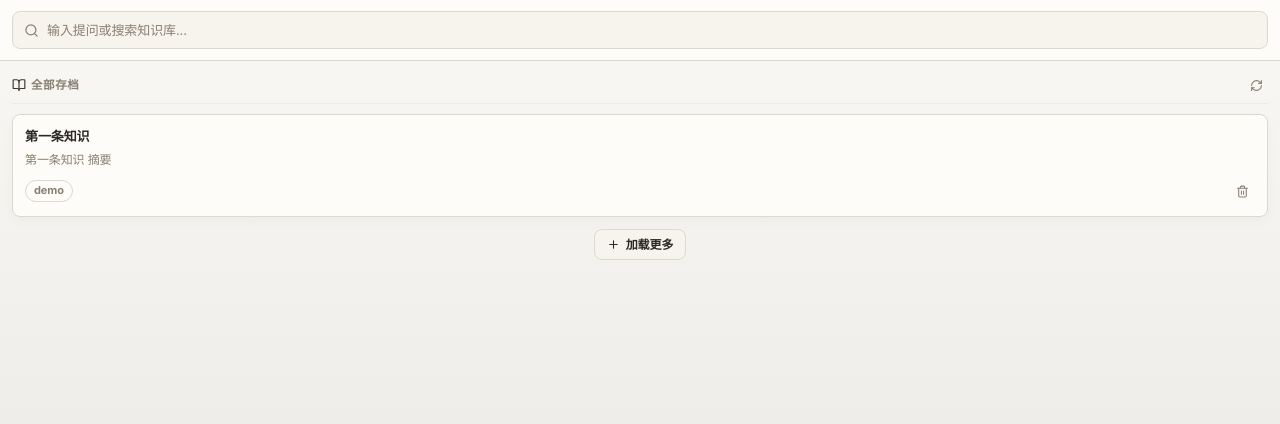
Scenario: KnowledgeView › appends additional knowledge pages without replacing the existing list
Expected: the heading "第一条知识" is shown, left=25, top=128, right=90, bottom=144
Click the button "加载更多" at (640, 245), box left=594, top=229, right=686, bottom=260
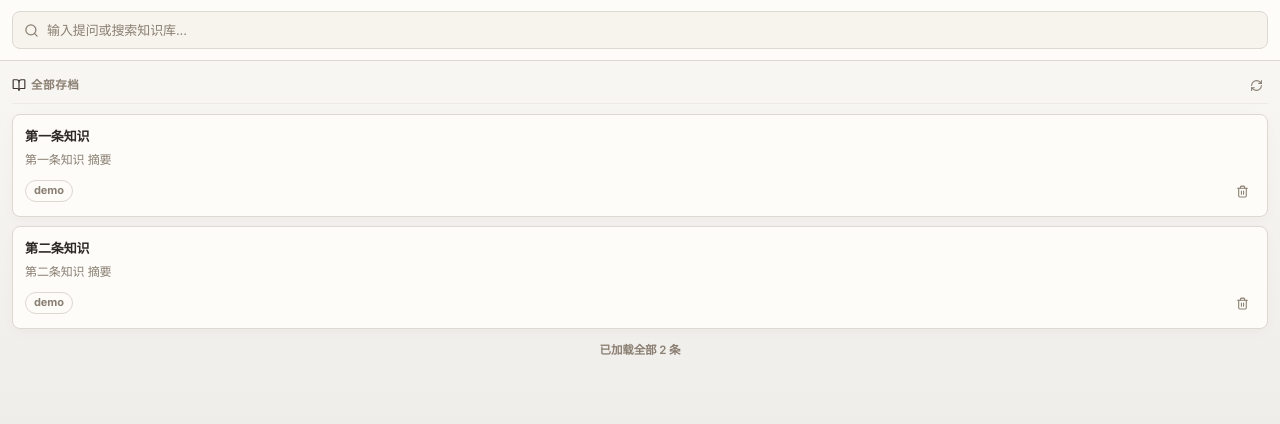
Expected: the heading "第一条知识" is shown, left=25, top=128, right=90, bottom=144
Result: the heading "第二条知识" is shown at left=25, top=240, right=90, bottom=256
Result: the text "已加载全部 2 条" is shown at left=600, top=341, right=680, bottom=360
